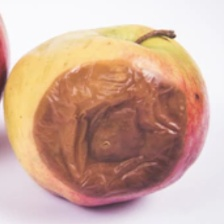apple: (7, 55, 172, 212)
